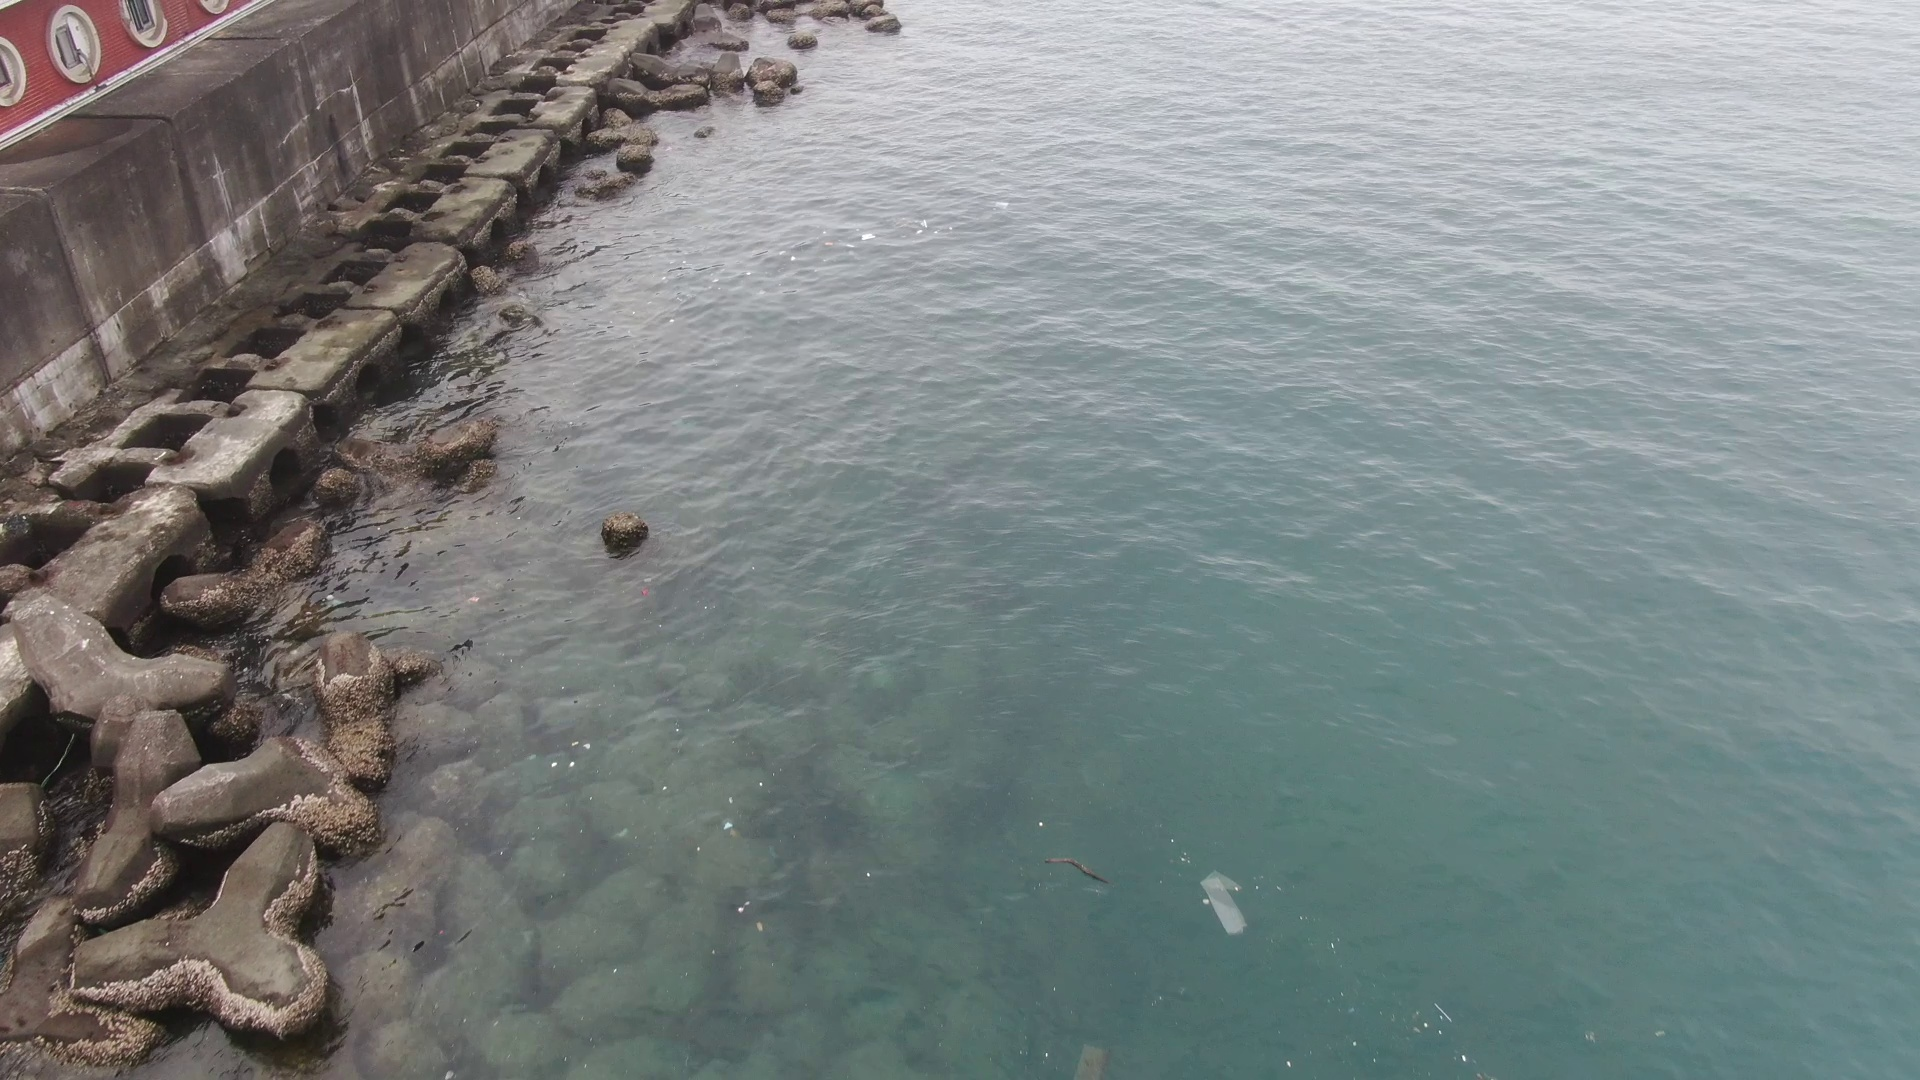garbage: (1193, 862, 1251, 945)
